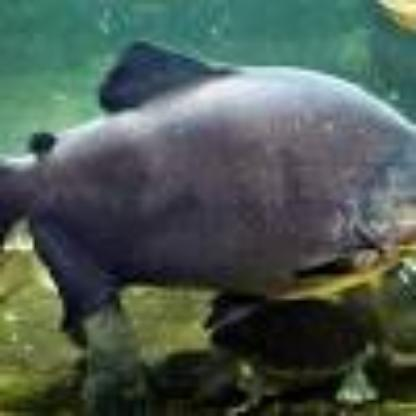ikan-pacu: (0, 57, 410, 294)
